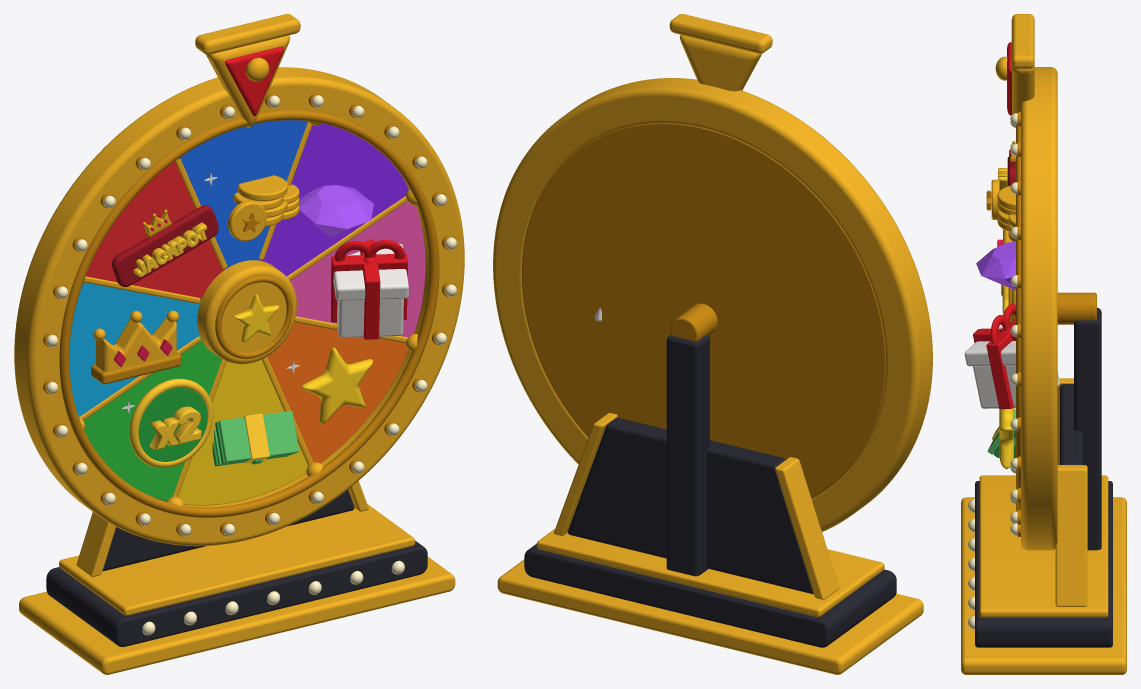
File: wheel_of_fortune.fbx
3 views of the same model, side by side, from view 1: azimuth 30°, elevation 25°; view 2: azimuth 150°, elevation 25°; view 3: azimuth 270°, elevation 25° (orthographic). The views are drawn at different scales.
Parts seen in each view (by area): view 1: Rim, Stand_top, Rim_lip, Stand_base, Stand_band, Segment_3_Star, Segment_1_Diamond, Segment_0_Coins, Segment_4_Cash, Segment_6_Crown, Segment_7_Jackpot, Segment_5_X2 (+29 smaller); view 2: Wheel_backplate, Rim, Stand_back, Stand_band, Stand_base, Stand_post, Stand_top, Stand_trim_-1, Pointer_frame, Pointer_cap, Stand, Axle; view 3: Rim, Stand_top, Stand_base, Stand_band, Stand_post, Stand, Stand_back, Rim_lip, Pointer_cap, Diamond, Axle, Gift_ribbon_h (+10 smaller).
Part boxes in pixels (x1,y1,x2,y2): Rim: (14, 67, 464, 546); Stand_top: (59, 504, 415, 615); Rim_lip: (59, 110, 439, 517); Stand_base: (19, 556, 455, 674); Stand_band: (46, 541, 427, 646); Segment_3_Star: (267, 322, 408, 463); Segment_1_Diamond: (260, 123, 408, 276); Segment_0_Coins: (180, 120, 307, 268); Segment_4_Cash: (178, 359, 308, 505); Segment_6_Crown: (69, 282, 200, 416); Segment_7_Jackpot: (86, 161, 224, 300); Segment_5_X2: (83, 338, 222, 501); Wheel_backplate: (522, 122, 885, 498); Rim: (493, 78, 932, 531); Stand_back: (568, 418, 813, 594); Stand_band: (524, 544, 896, 647); Stand_base: (497, 559, 923, 674); Stand_post: (666, 335, 709, 576); Stand_top: (536, 529, 884, 617); Stand_trim_-1: (775, 457, 839, 599); Pointer_frame: (680, 35, 761, 91); Pointer_cap: (669, 14, 772, 53); Stand: (554, 413, 617, 535); Axle: (670, 303, 717, 341); Rim: (1021, 67, 1057, 550); Stand_top: (979, 475, 1108, 617); Stand_base: (961, 497, 1126, 674); Stand_band: (975, 481, 1112, 647); Stand_post: (1074, 307, 1101, 550); Stand: (1055, 465, 1087, 606); Stand_back: (1060, 384, 1082, 464); Rim_lip: (1016, 125, 1020, 511); Pointer_cap: (1011, 14, 1034, 68); Diamond: (976, 241, 1015, 290); Axle: (1057, 292, 1096, 324); Gift_ribbon_h: (986, 318, 1015, 409).
Size of the model in its own units: 210 by 268 by 72.
